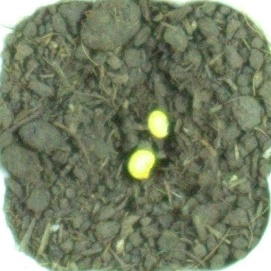pepper seed: (45, 56, 204, 237), (62, 39, 231, 179)
